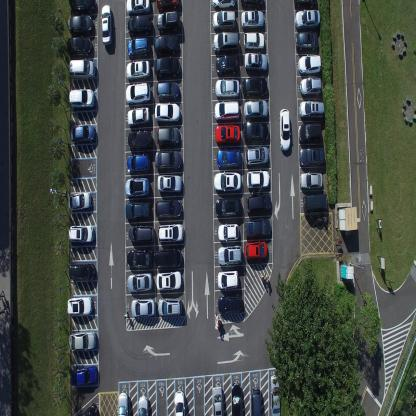car: (70, 362, 98, 388), (212, 168, 242, 191), (69, 330, 97, 353), (214, 193, 240, 217), (298, 144, 324, 168), (125, 83, 151, 107), (242, 120, 269, 143), (153, 57, 181, 79), (66, 296, 94, 318), (278, 107, 291, 154), (245, 191, 270, 215), (216, 147, 242, 170), (130, 296, 156, 319), (127, 271, 153, 294), (124, 199, 150, 222), (301, 192, 328, 214), (155, 269, 182, 291), (126, 248, 153, 270), (241, 76, 268, 98), (213, 76, 240, 98), (67, 14, 94, 36), (68, 87, 95, 109), (154, 247, 182, 268), (68, 59, 96, 80), (67, 262, 96, 282), (298, 52, 322, 76), (212, 8, 236, 32), (213, 99, 238, 122), (154, 35, 180, 57), (66, 37, 92, 59), (154, 103, 180, 125), (157, 295, 183, 317), (212, 31, 238, 53), (100, 3, 113, 47), (244, 217, 271, 238), (154, 149, 181, 170), (157, 222, 184, 243), (154, 198, 182, 218), (126, 37, 150, 60), (126, 105, 150, 128), (215, 54, 238, 78), (156, 11, 180, 34), (218, 292, 243, 314), (243, 239, 268, 261), (157, 172, 182, 194), (129, 222, 154, 244), (125, 176, 150, 198), (127, 129, 152, 151), (67, 190, 92, 212), (214, 123, 239, 145), (70, 124, 96, 145), (68, 224, 94, 245), (294, 8, 321, 28), (126, 60, 150, 82), (156, 126, 180, 148), (126, 152, 150, 174), (244, 52, 268, 74), (298, 76, 322, 98), (243, 100, 268, 121), (299, 100, 324, 121), (240, 9, 265, 30), (127, 15, 152, 36), (216, 244, 242, 264), (156, 81, 179, 103), (244, 145, 268, 166), (297, 121, 321, 142), (296, 30, 318, 52), (270, 373, 281, 415), (246, 168, 269, 188), (67, 0, 97, 15), (230, 381, 243, 415), (216, 268, 238, 288), (242, 32, 264, 52), (299, 171, 322, 190), (125, 0, 150, 16), (217, 222, 239, 240), (212, 385, 225, 415), (250, 386, 262, 416), (78, 400, 100, 416), (173, 390, 186, 415), (156, 0, 180, 12), (137, 394, 150, 416), (117, 392, 129, 415), (212, 0, 236, 10), (293, 0, 319, 8), (240, 0, 265, 8)
